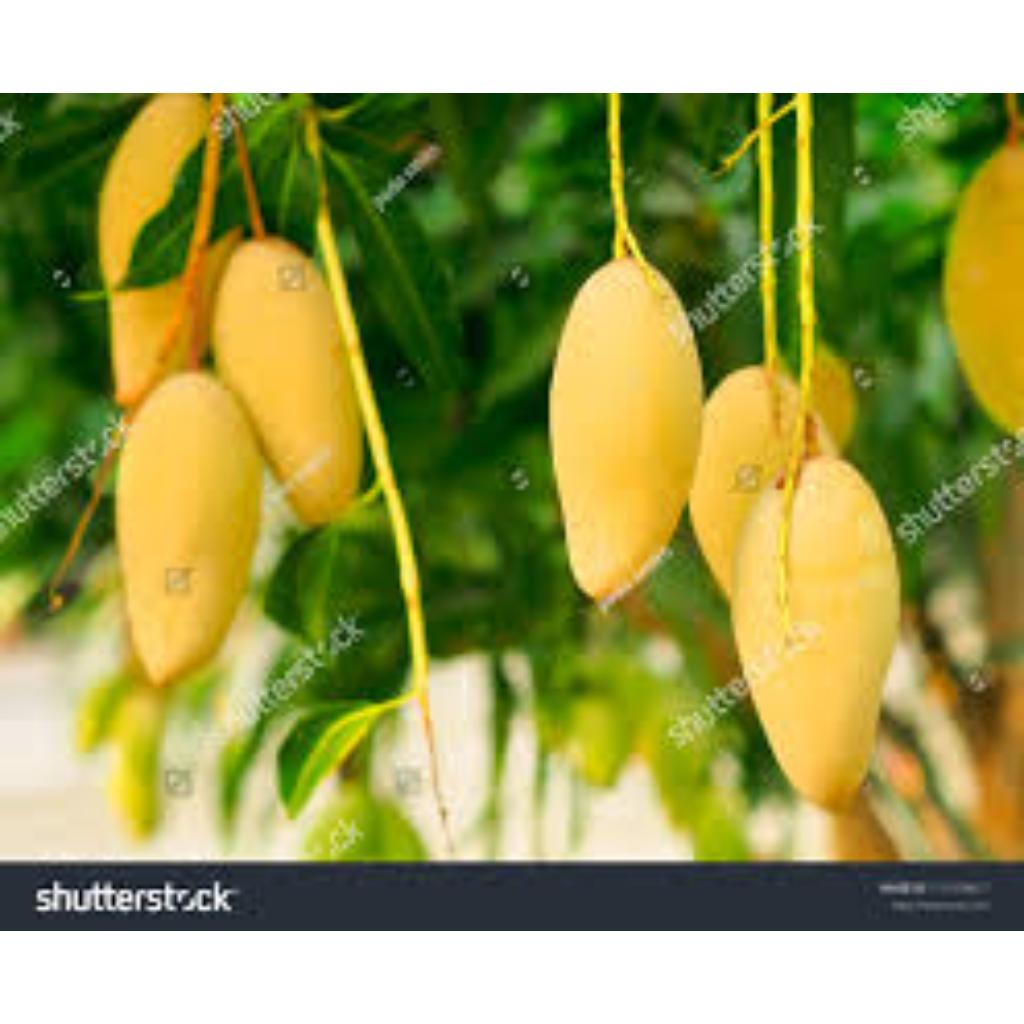mango: (729, 448, 893, 816), (537, 253, 703, 604), (549, 238, 706, 609), (108, 365, 266, 690), (100, 95, 249, 414), (203, 240, 358, 514), (691, 357, 832, 595), (950, 140, 1024, 439)
